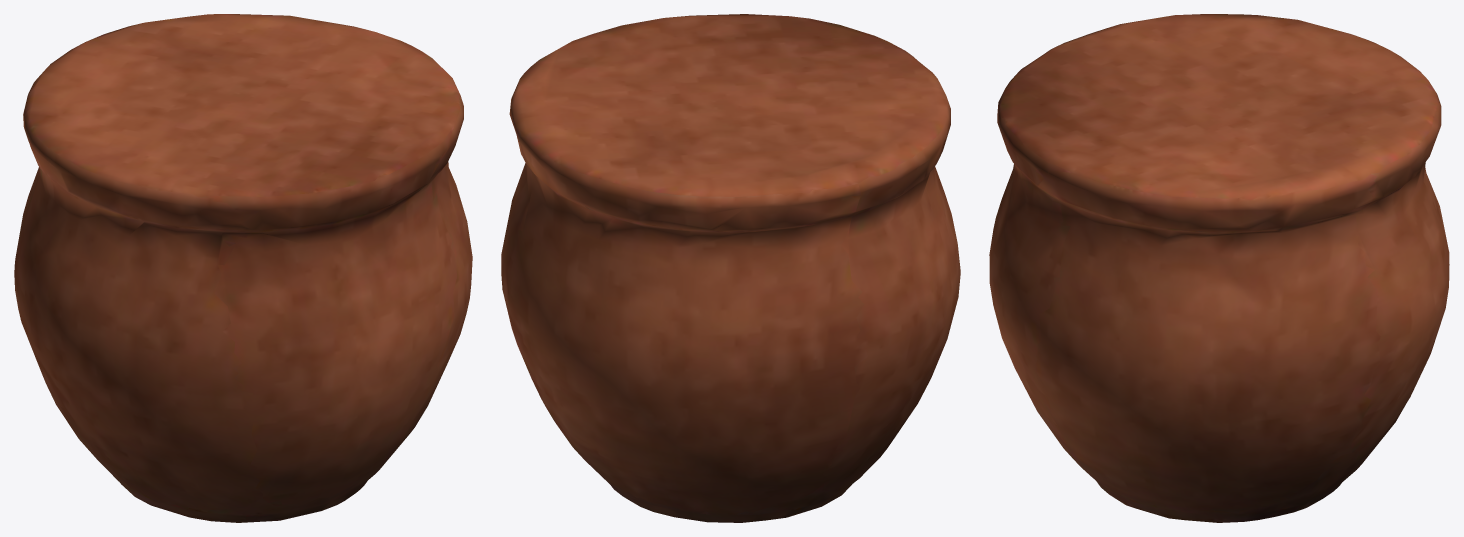
File: old-terracotta-pot-v001.glb
3 views of the same model, side by side, from view 1: azimuth 30°, elevation 25°; view 2: azimuth 150°, elevation 25°; view 3: azimuth 270°, elevation 25° (orthographic).
Parts seen in each view (by area): view 1: old-terracotta-pot; view 2: old-terracotta-pot; view 3: old-terracotta-pot.
Part boxes in pixels (box(x1,y1,x2,y2)): old-terracotta-pot: box(14, 14, 472, 522); old-terracotta-pot: box(501, 14, 960, 522); old-terracotta-pot: box(989, 14, 1449, 522).
Bounding box in the file's own units: 0.4284 × 0.3798 × 0.4278.
1 material, 1 textured.
